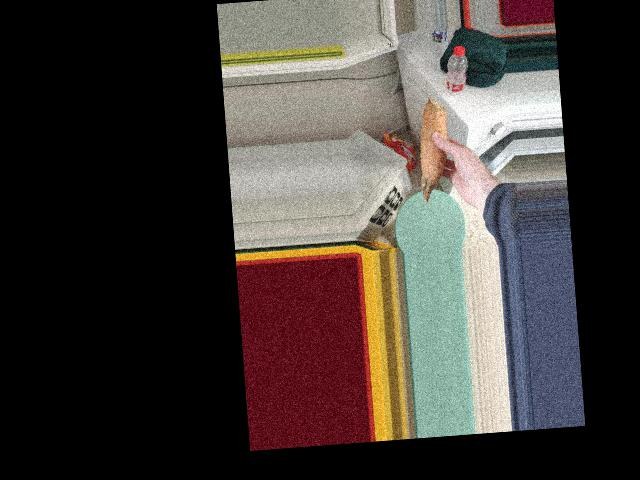sweet_potato: (412, 94, 447, 208)
